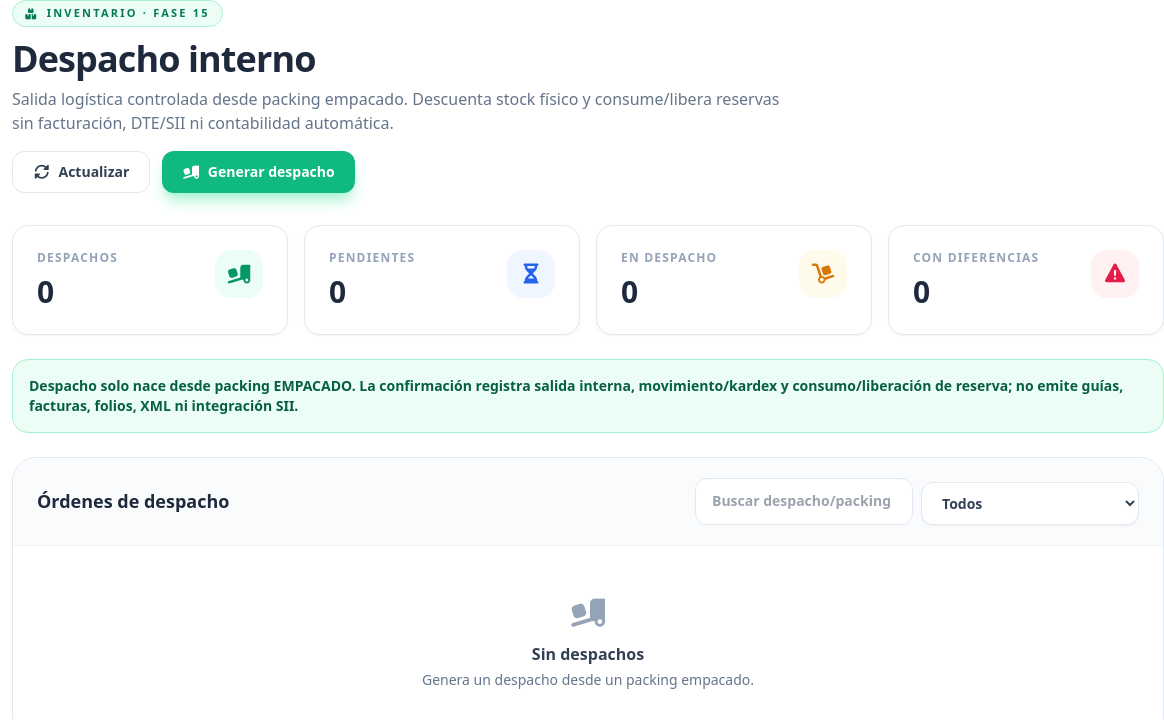
Test: DespachosInventario (vista) › abre el formulario al hacer clic en "Generar despacho"
The width and height of the screenshot is (1164, 720).
Click the button "Generar despacho". click: (258,172)
box: [162,151,355,193]
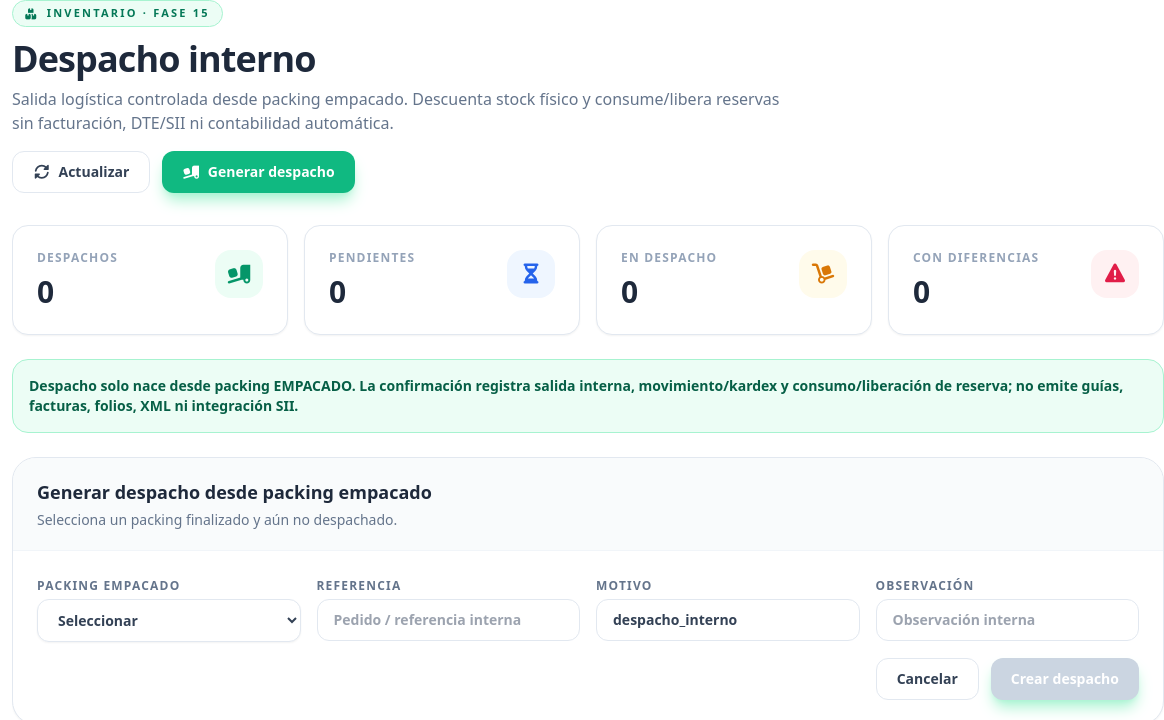
Expected: the heading "Generar despacho desde packing empacado" is shown, [37,478,432,506]
